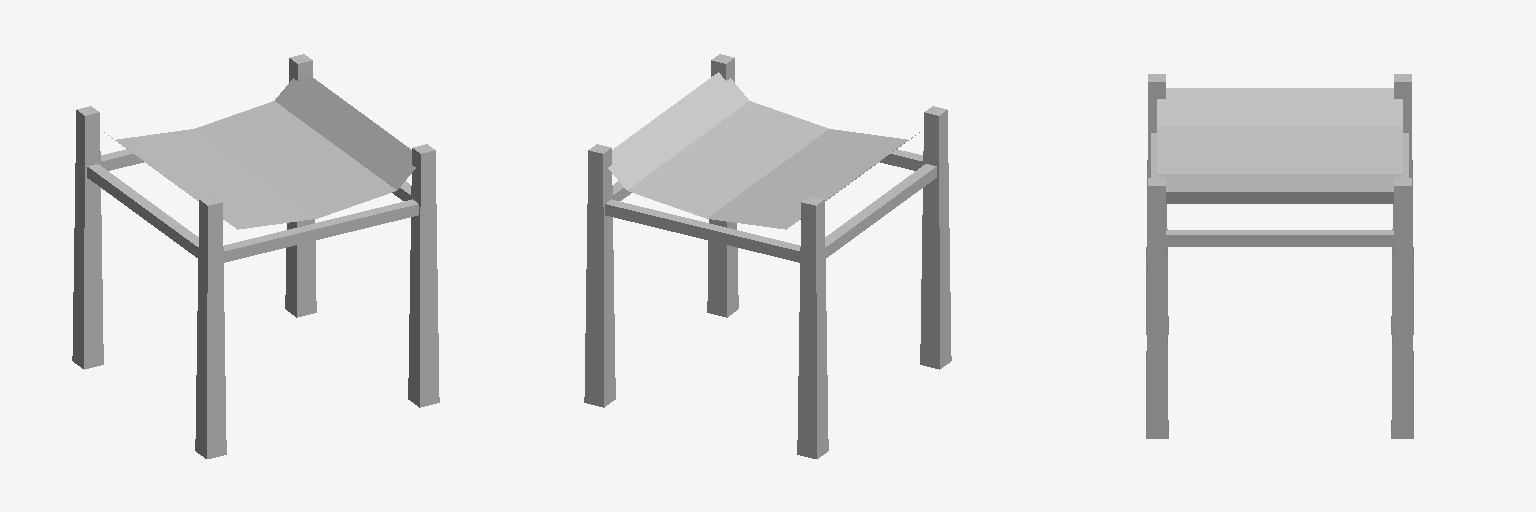
File: structureCloth.obj
The picture shows the model from 3 angles: view 1: azimuth 30°, elevation 25°; view 2: azimuth 150°, elevation 25°; view 3: azimuth 270°, elevation 25°; orthographic projection.
Parts seen in each view (by area): view 1: structureCloth; view 2: structureCloth; view 3: structureCloth.
Part boxes in pixels (left/top/right/bottom): structureCloth: left=72, top=54, right=439, bottom=458; structureCloth: left=584, top=54, right=951, bottom=458; structureCloth: left=1146, top=74, right=1413, bottom=438.
Size of the model in its own units: 0.5 by 0.5175 by 0.5.